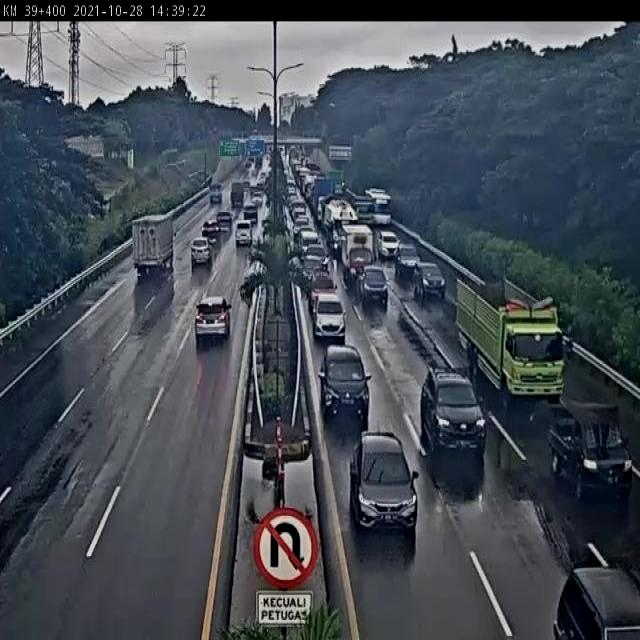Bus: (365, 188, 392, 225)
Car: (348, 430, 420, 539), (421, 361, 488, 464), (554, 564, 640, 640), (318, 344, 370, 426), (194, 294, 233, 345), (311, 292, 347, 342), (413, 262, 447, 304), (358, 265, 390, 309), (309, 266, 339, 312), (396, 244, 420, 279), (305, 241, 329, 271), (376, 229, 400, 259), (302, 254, 324, 283), (299, 229, 319, 260), (190, 238, 210, 265), (201, 219, 221, 240), (242, 202, 258, 224), (216, 210, 232, 232), (293, 217, 308, 238), (251, 191, 263, 207), (242, 179, 250, 194), (300, 224, 314, 232), (256, 181, 264, 192), (249, 185, 257, 195), (244, 160, 252, 168), (298, 214, 310, 219), (260, 172, 266, 178)
Truck: (454, 269, 568, 403), (542, 394, 635, 502), (130, 212, 177, 276), (340, 224, 376, 285), (322, 197, 359, 255), (313, 176, 335, 225), (350, 194, 375, 227), (325, 168, 345, 198), (230, 181, 245, 208), (209, 182, 222, 206), (255, 156, 262, 168)
Van: (235, 219, 253, 246)
